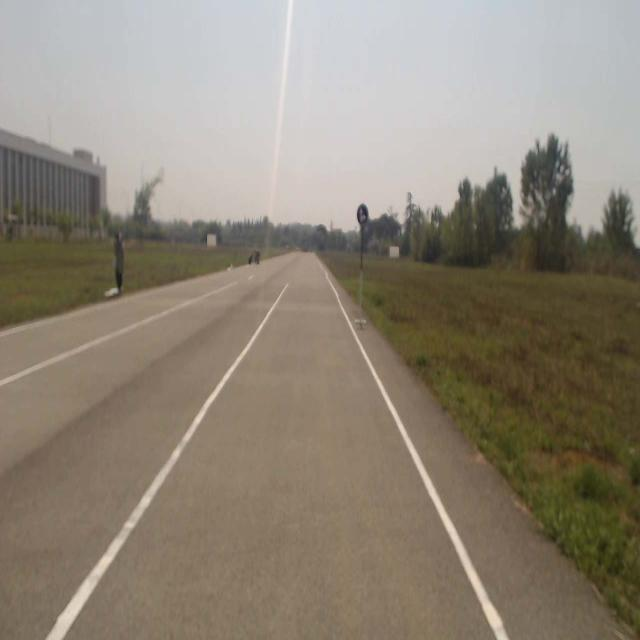ilerisag: (357, 204, 369, 224)
